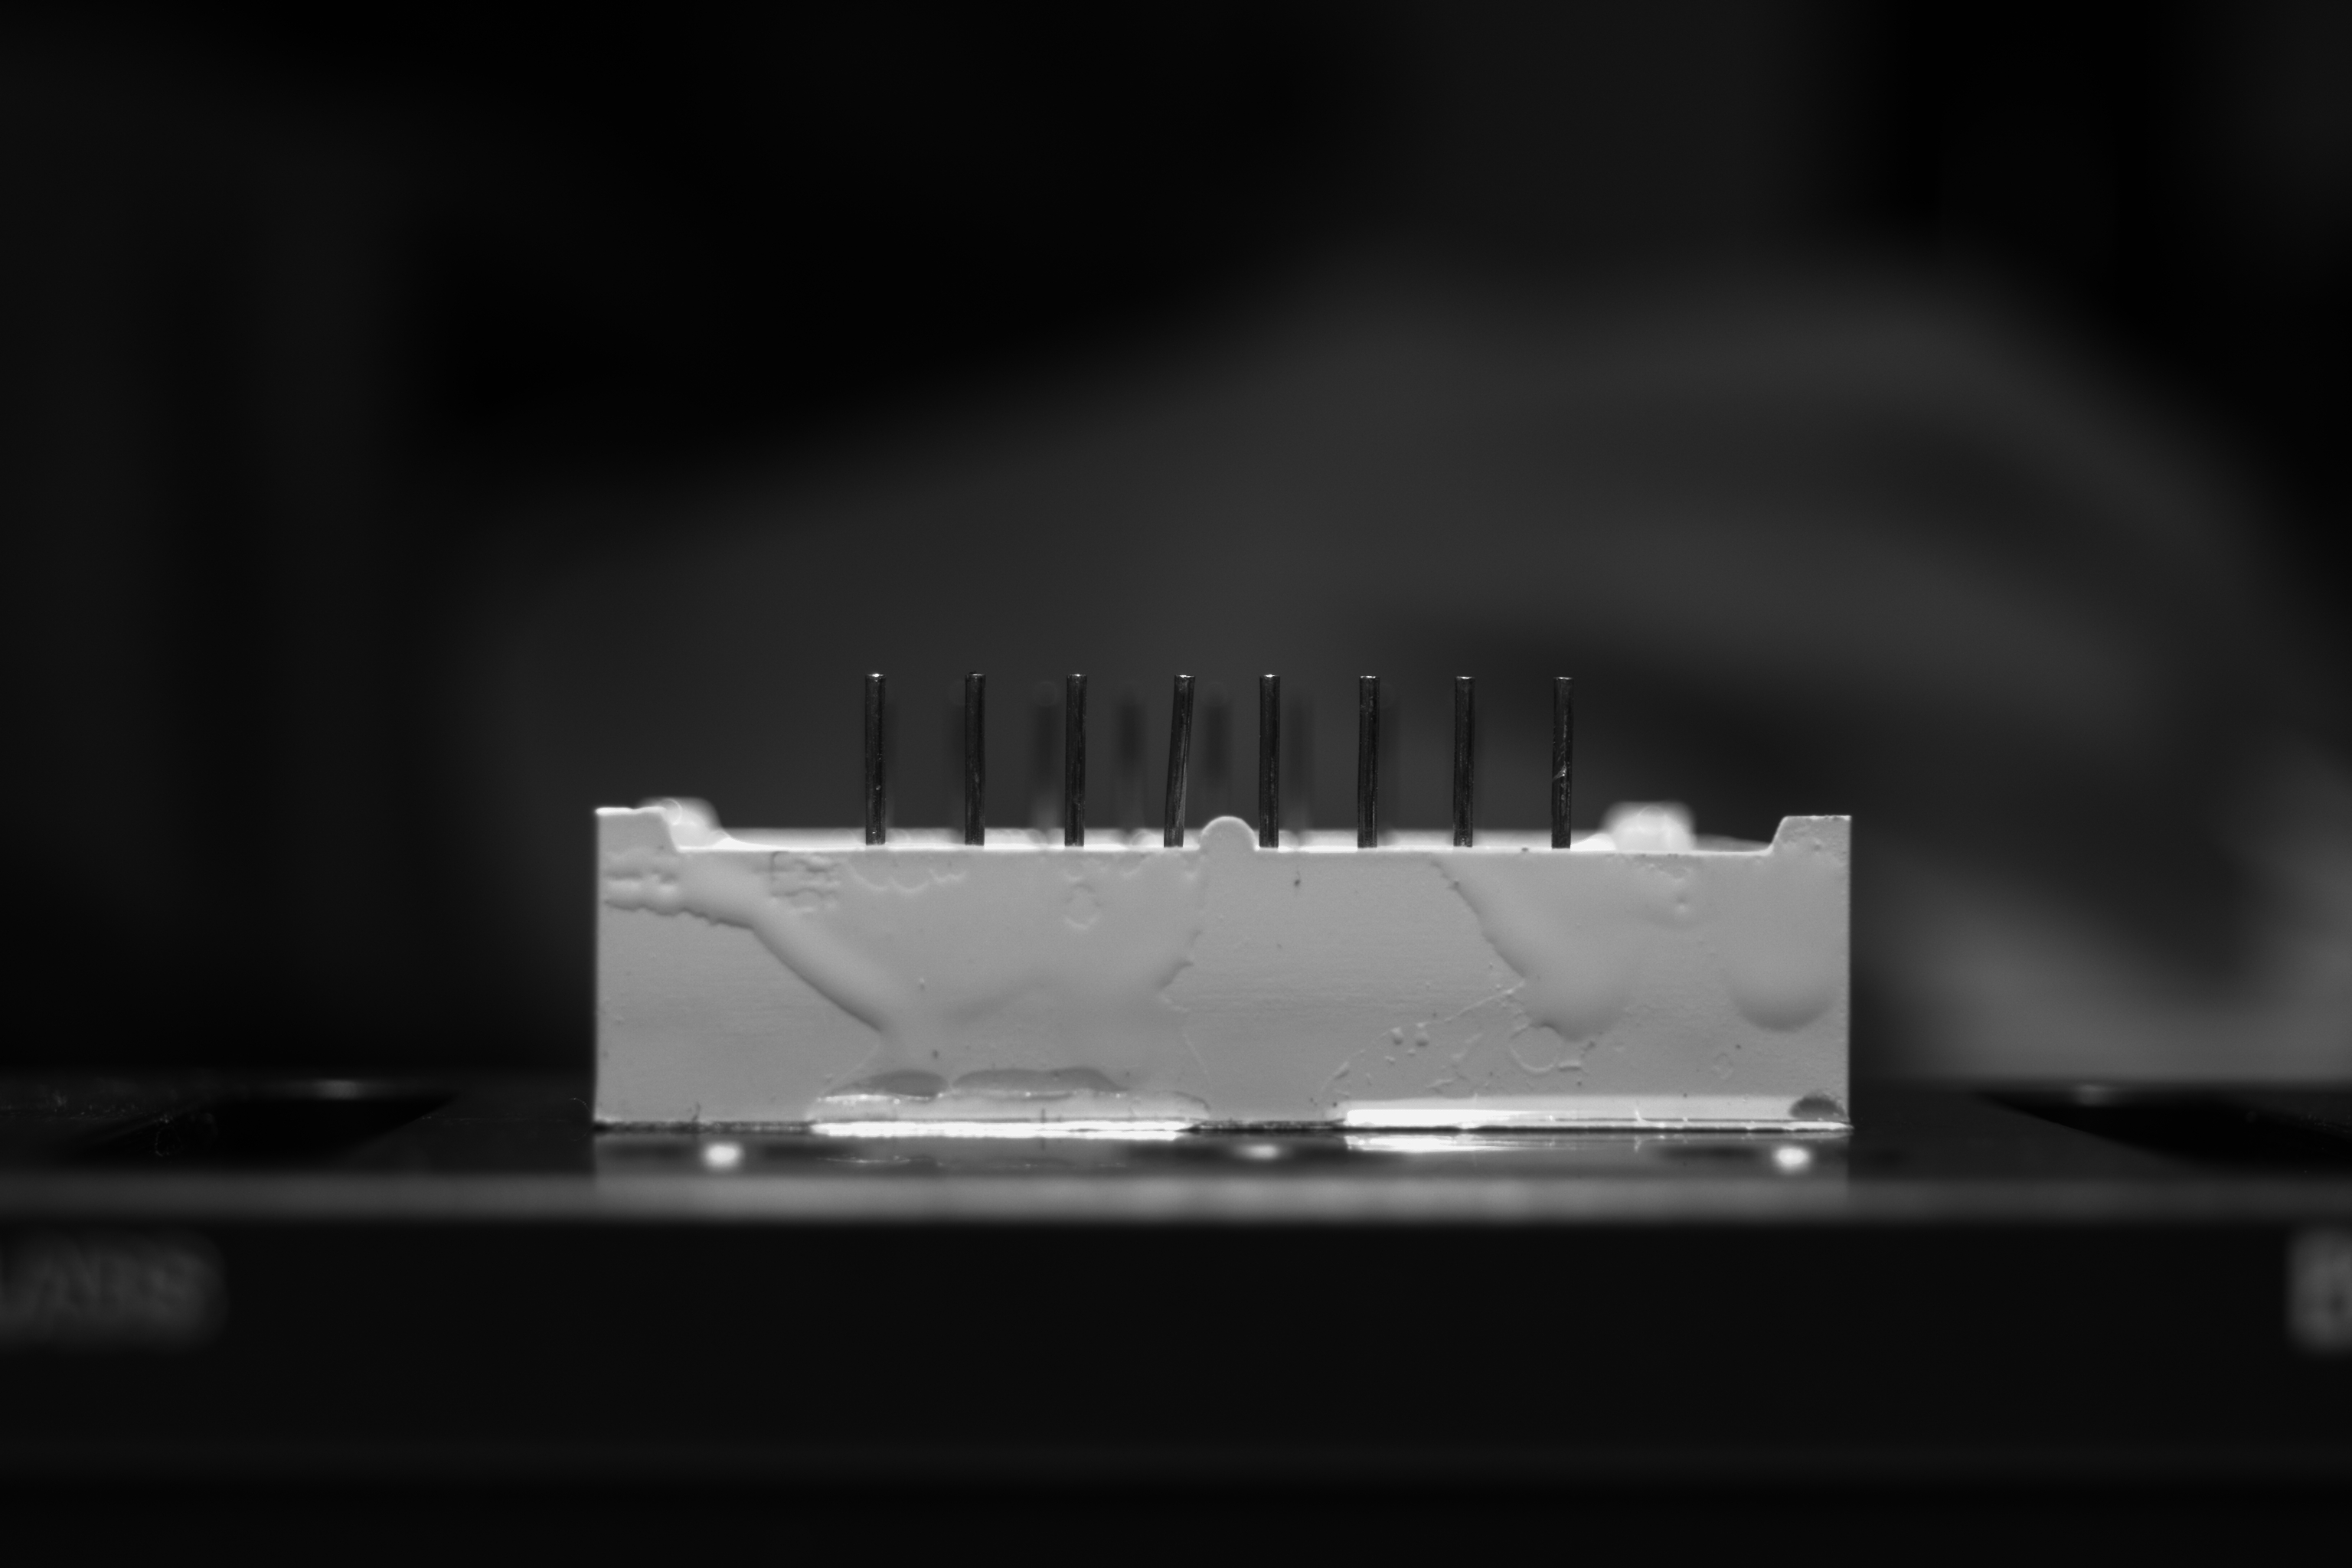glue: (600, 840, 1235, 1153), (1412, 849, 1850, 1045)
